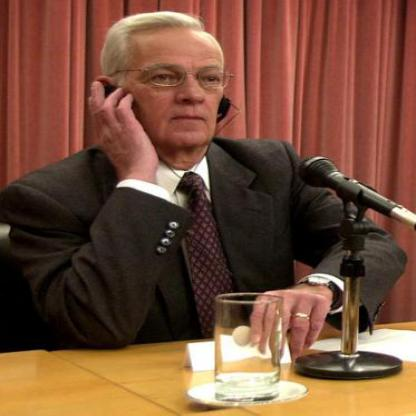face: (117, 15, 234, 155)
